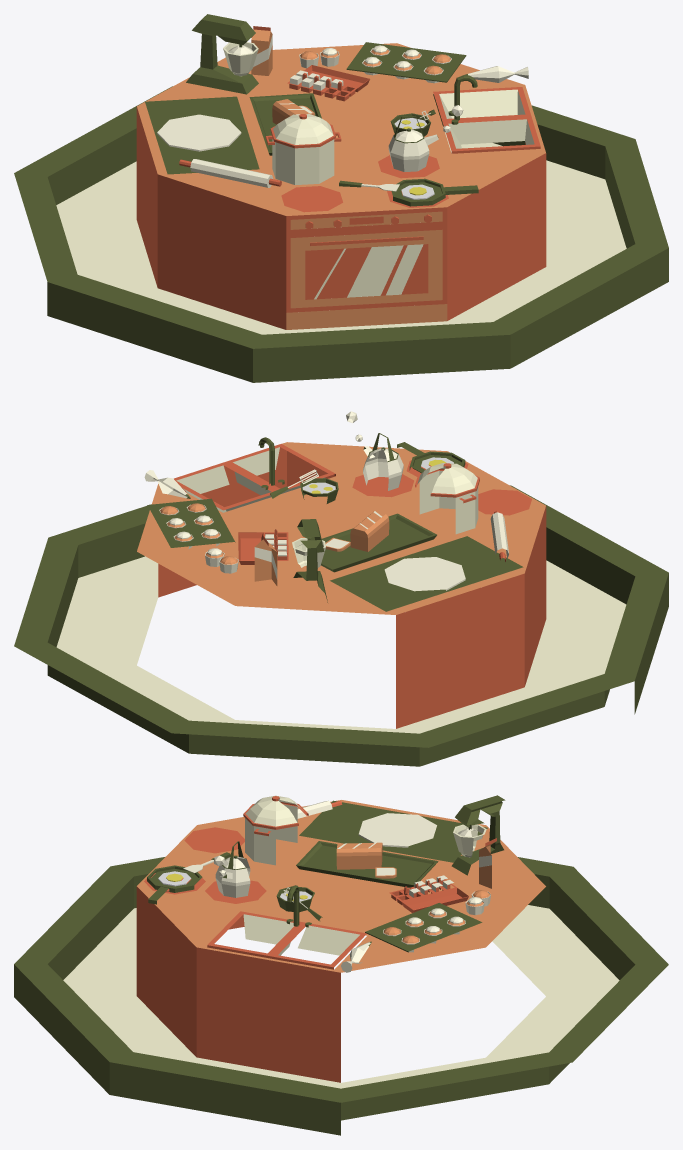
File: baking-optimize.glb
3 views of the same model, one above another, from view 1: azimuth 30°, elevation 25°; view 2: azimuth 150°, elevation 25°; view 3: azimuth 270°, elevation 25° (orthographic). The views are drawn at different scales.
Parts seen in each view (by area): view 1: base, omlette, rolling, piping; view 2: base, loaf, omlette, rolling, piping; view 3: base, omlette, loaf.
Part boxes in pixels (x1,y1,x2,y2): base: [14, 14, 668, 382]; omlette: [391, 178, 478, 206]; rolling: [179, 159, 281, 187]; piping: [462, 66, 528, 82]; base: [14, 411, 668, 766]; loaf: [350, 511, 389, 551]; omlette: [397, 442, 465, 473]; rolling: [490, 511, 509, 561]; piping: [144, 470, 190, 498]; base: [14, 795, 668, 1135]; omlette: [147, 865, 202, 904]; loaf: [336, 842, 382, 869].
Bounding box in the file's own units: 2 × 0.5862 × 2.
